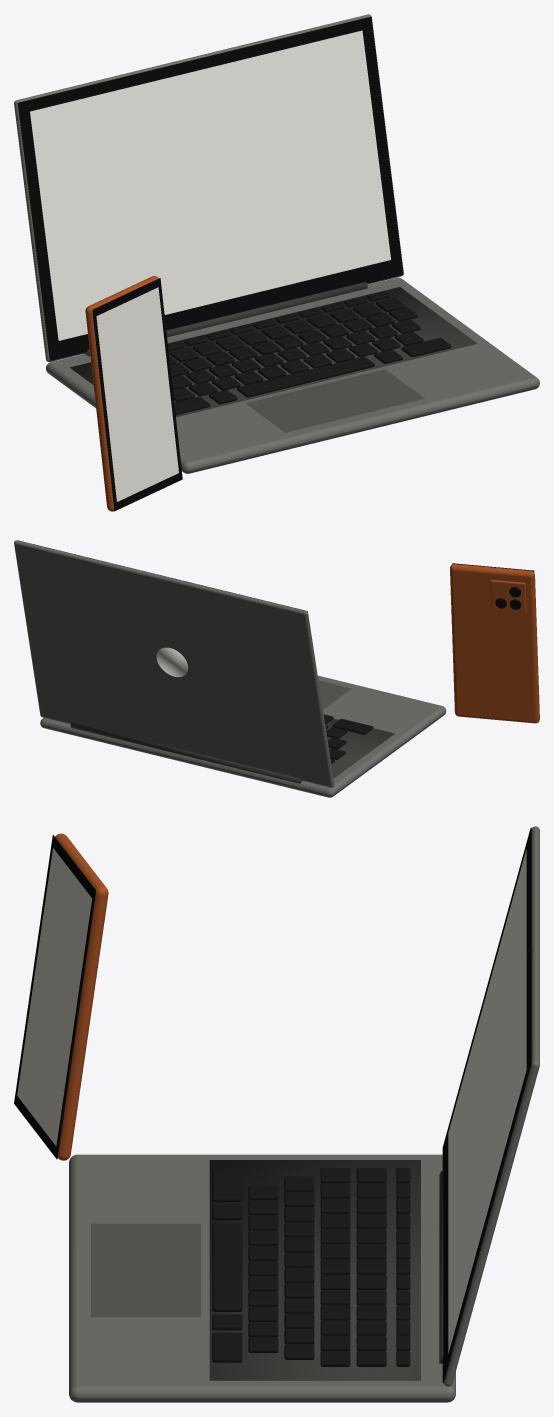
Rendered from hero-real.glb.
The picture shows the model from 3 angles, top to bottom: view 1: azimuth 30°, elevation 25°; view 2: azimuth 150°, elevation 25°; view 3: azimuth 270°, elevation 25°; orthographic projection. The views are drawn at different scales.
Visible parts, largest first — view 1: LaptopScreen, LaptopBase, Keyboard, Bezel, PhoneScreen, Deck, Trackpad, Lid, PhoneGlass, Phone, Hinge; view 2: Lid, Phone, LaptopBase, Hinge, Deck, Keyboard, CameraBump, Logo, Trackpad; view 3: LaptopBase, Keyboard, LaptopScreen, Deck, PhoneScreen, Trackpad, Lid, Bezel, Phone, PhoneGlass, Hinge.
Boxes of the visible parts, box(x1,y1,x2,y2) form: LaptopScreen: box(30, 30, 390, 340); LaptopBase: box(46, 277, 539, 473); Keyboard: box(168, 291, 451, 414); Bezel: box(17, 16, 403, 360); PhoneScreen: box(96, 287, 178, 501); Deck: box(70, 287, 477, 417); Trackpad: box(246, 369, 424, 432); Lid: box(14, 14, 403, 362); PhoneGlass: box(92, 278, 182, 511); Phone: box(85, 276, 158, 511); Hinge: box(84, 282, 367, 356); Lid: box(14, 540, 334, 787); Phone: box(450, 564, 539, 723); LaptopBase: box(40, 675, 446, 797); Hinge: box(70, 722, 302, 783); Deck: box(325, 718, 394, 778); Keyboard: box(323, 714, 373, 763); CameraBump: box(490, 580, 526, 613); Logo: box(156, 647, 188, 677); Trackpad: box(318, 680, 351, 709); LaptopBase: box(69, 1154, 455, 1402); Keyboard: box(212, 1168, 410, 1366); LaptopScreen: box(448, 849, 526, 1353); Deck: box(209, 1160, 420, 1380); PhoneScreen: box(17, 848, 92, 1145); Trackpad: box(91, 1223, 200, 1316); Lid: box(444, 826, 539, 1386); Bezel: box(442, 827, 531, 1383); Phone: box(55, 833, 108, 1160); PhoneGlass: box(14, 835, 95, 1159); Hinge: box(439, 1170, 443, 1363).
Size of the model in its own units: 4.11 by 2.15 by 2.99.
